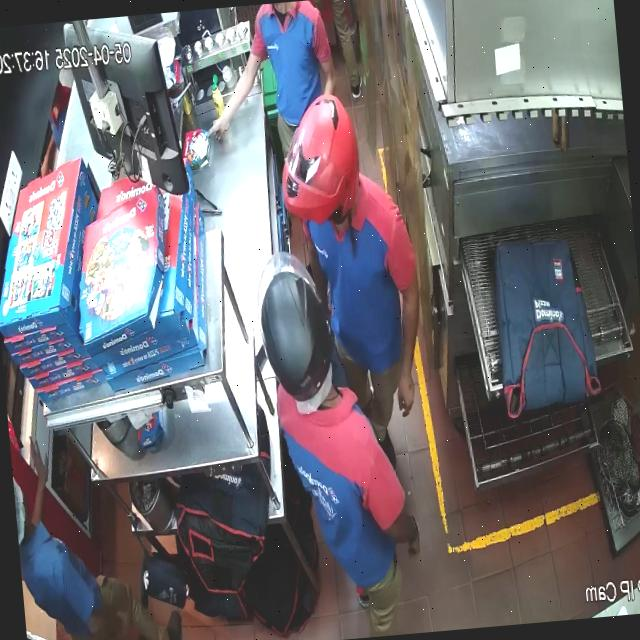helmet: (257, 251, 334, 415), (281, 91, 360, 225)
